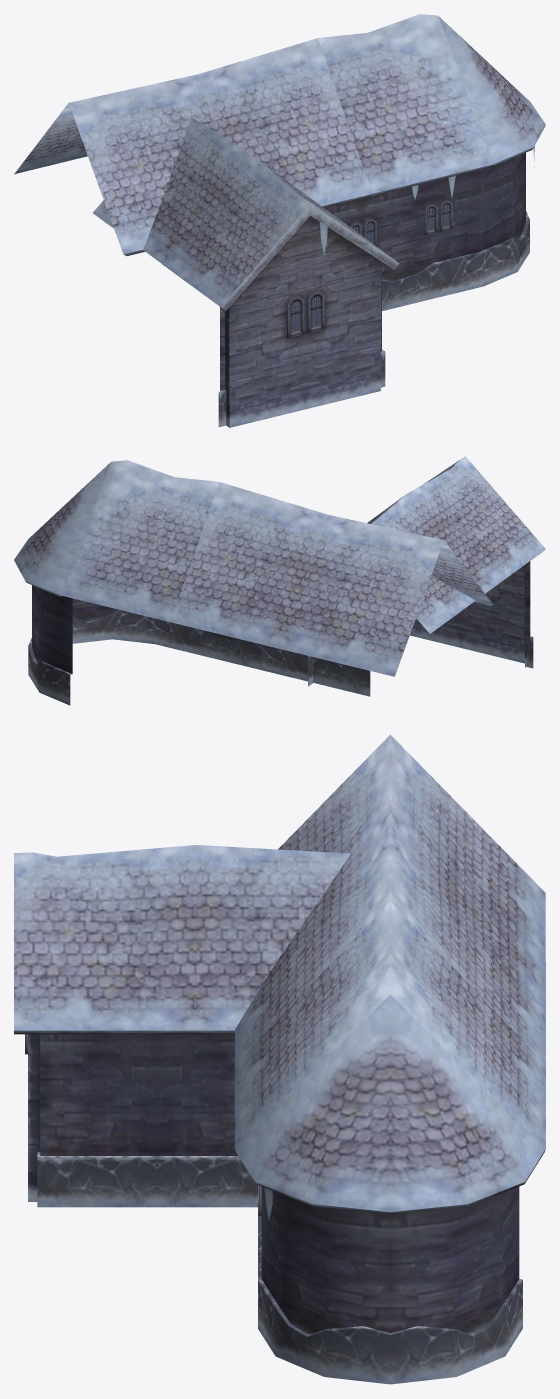
File: yw_wanglingzhita_fangwu01.FBX
3 renders of one model, top to bottom at view 1: azimuth 30°, elevation 25°; view 2: azimuth 150°, elevation 25°; view 3: azimuth 270°, elevation 25°, orthographic. The views are drawn at different scales.
Parts seen in each view (by area): view 1: yw_wanglingzhita_fangwu01; view 2: yw_wanglingzhita_fangwu01; view 3: yw_wanglingzhita_fangwu01.
Part boxes in pixels (x1,y1,x2,y2): yw_wanglingzhita_fangwu01: (14,14,545,427); yw_wanglingzhita_fangwu01: (14,456,545,705); yw_wanglingzhita_fangwu01: (14,734,545,1384).
Size of the model in its own units: 1368 by 690 by 963.
